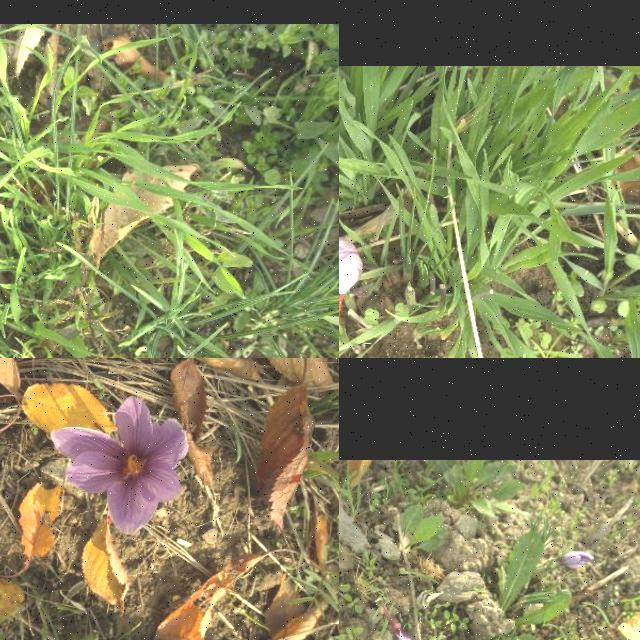flower: (50, 394, 190, 536), (339, 234, 362, 347), (558, 552, 594, 570)
